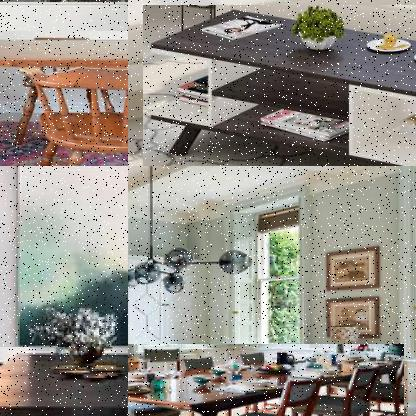table: (142, 5, 415, 165), (128, 344, 405, 415), (0, 31, 127, 165), (0, 347, 127, 415)
